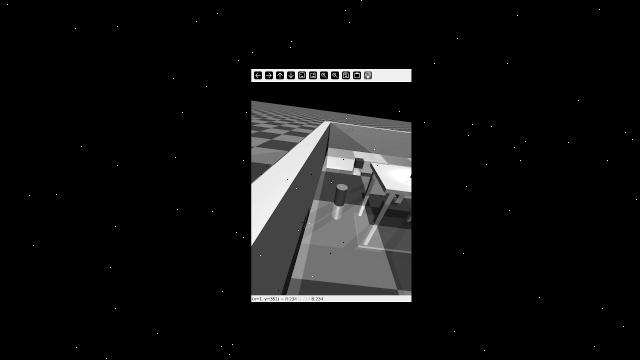cilindro: (330, 180, 350, 210)
cuadrado: (352, 156, 367, 170)
rectangulo: (396, 190, 406, 199)
